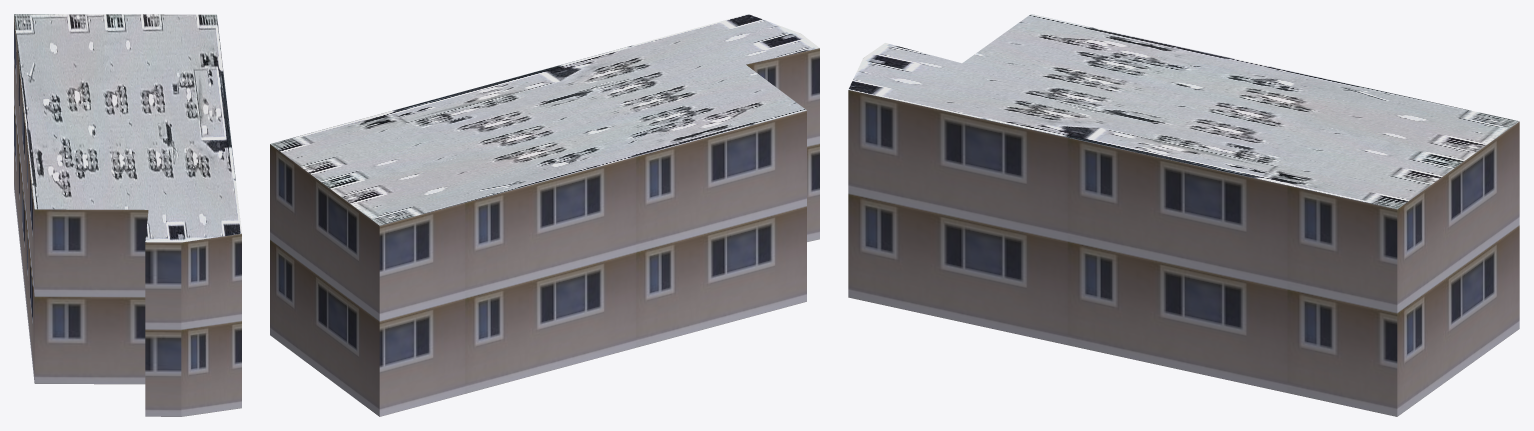
The model's file is ResTex__700.fbx.
3 views of the same model, side by side, from view 1: azimuth 30°, elevation 25°; view 2: azimuth 150°, elevation 25°; view 3: azimuth 270°, elevation 25° (orthographic). The views are drawn at different scales.
Parts seen in each view (by area): view 1: CityEngineMaterial_8_m, CityEngineMaterial_21_m; view 2: CityEngineMaterial_21_m, CityEngineMaterial_8_m; view 3: CityEngineMaterial_21_m, CityEngineMaterial_8_m.
Part boxes in pixels (x1,y1,x2,y2): CityEngineMaterial_8_m: [14, 14, 241, 242]; CityEngineMaterial_21_m: [14, 15, 241, 416]; CityEngineMaterial_21_m: [270, 48, 819, 416]; CityEngineMaterial_8_m: [270, 14, 819, 225]; CityEngineMaterial_21_m: [848, 90, 1519, 416]; CityEngineMaterial_8_m: [848, 14, 1518, 208].
Size of the model in its own units: 12.1 by 6 by 17.58.
Materials: 2 (2 with a texture image).
